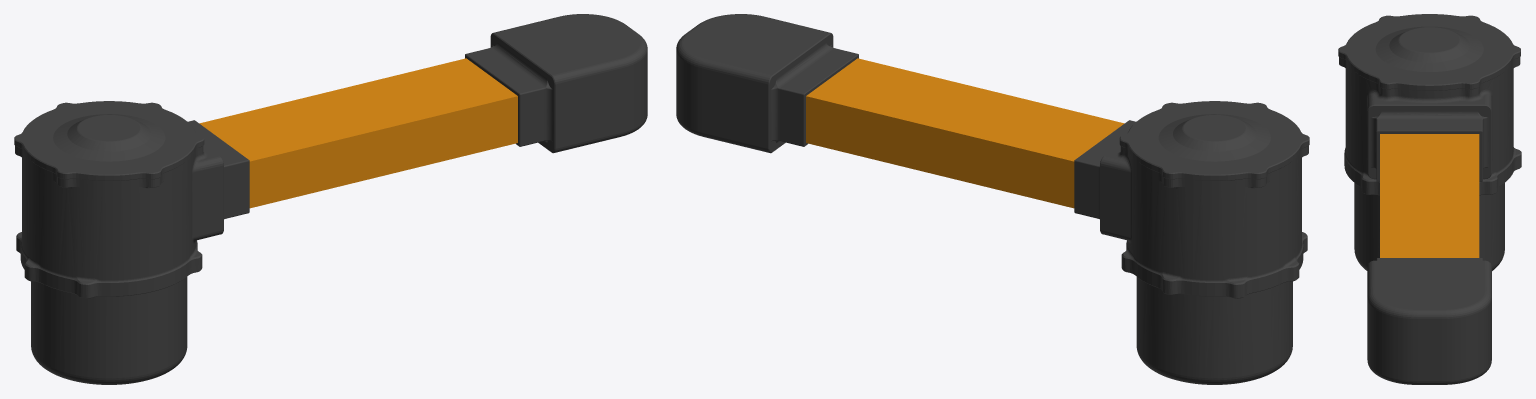
File: j3_arm_link_1.dae
The picture shows the model from 3 angles, left to right: view 1: azimuth 30°, elevation 25°; view 2: azimuth 150°, elevation 25°; view 3: azimuth 270°, elevation 25°; orthographic projection. The views are drawn at different scales.
Parts seen in each view (by area): view 1: Arm_one; view 2: Arm_one; view 3: Arm_one.
Boxes of the visible parts, x1,y1,x2,y2 form: Arm_one: [14, 14, 647, 384]; Arm_one: [676, 14, 1309, 384]; Arm_one: [1338, 14, 1521, 384].
Bounding box in the file's own units: 0.543 × 0.1475 × 0.1943.
